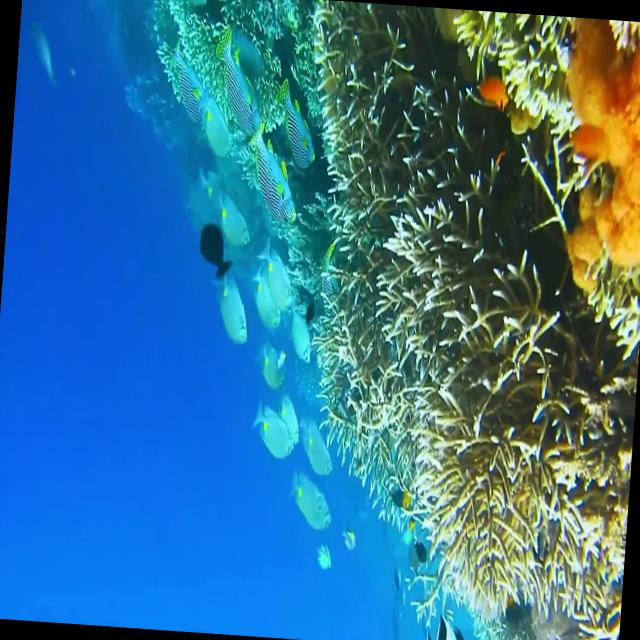fish: (202, 23, 282, 140), (232, 138, 307, 238), (280, 456, 340, 554), (268, 81, 326, 180), (257, 238, 313, 316), (248, 398, 300, 477), (212, 264, 254, 353), (286, 410, 336, 482), (246, 273, 294, 339), (194, 218, 234, 292), (251, 332, 292, 402), (282, 308, 322, 370), (333, 517, 362, 566), (316, 534, 336, 578)
